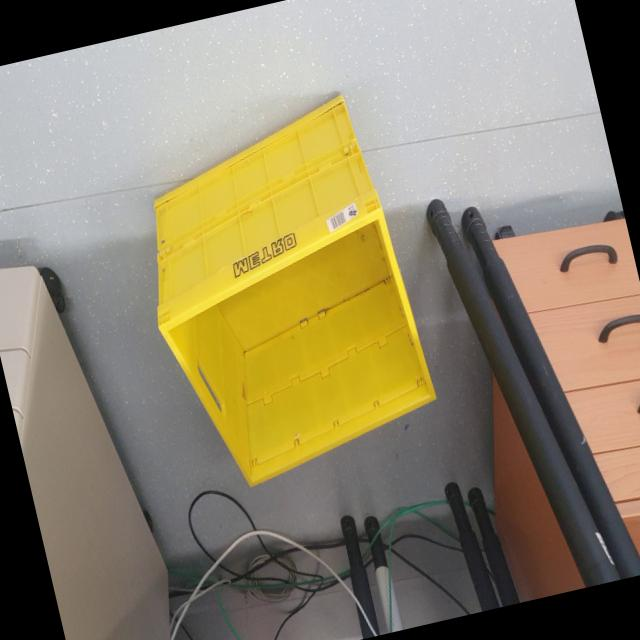box: (112, 76, 454, 510)
